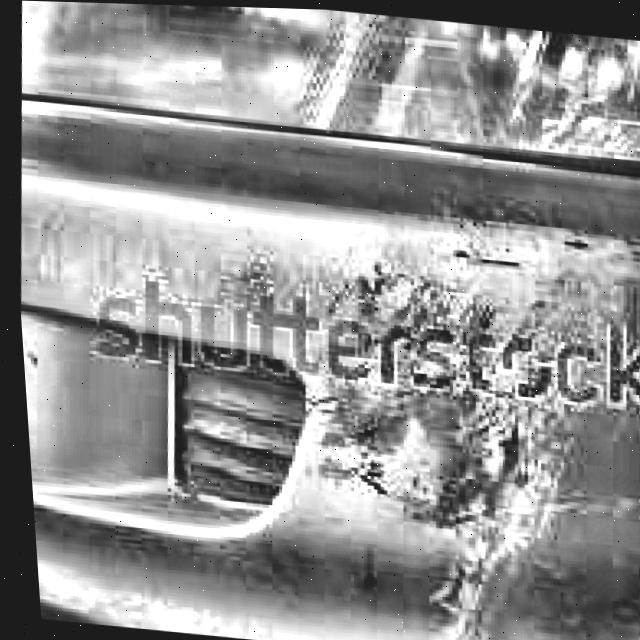bumper_scratch: (424, 201, 617, 302)
